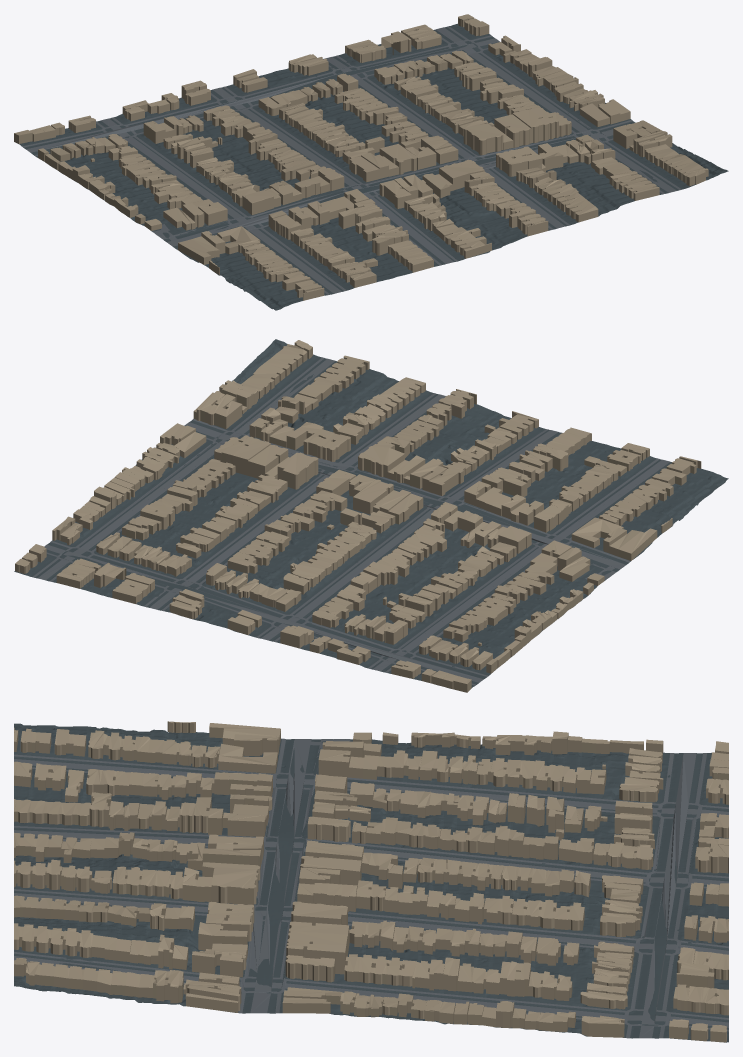
The model's file is epsg26910-1420-10878.lod0.glb.
3 renders of one model, top to bottom at view 1: azimuth 30°, elevation 25°; view 2: azimuth 150°, elevation 25°; view 3: azimuth 270°, elevation 25°, orthographic. The views are drawn at different scales.
Parts seen in each view (by area): view 1: epsg26910-1420-10878-lod0; view 2: epsg26910-1420-10878-lod0; view 3: epsg26910-1420-10878-lod0.
Boxes of the visible parts, left/top/right/bottom form: epsg26910-1420-10878-lod0: left=14, top=14, right=728, bottom=310; epsg26910-1420-10878-lod0: left=14, top=339, right=728, bottom=692; epsg26910-1420-10878-lod0: left=14, top=721, right=728, bottom=1042.
Size of the model in its own units: 384 by 45.75 by 384.
